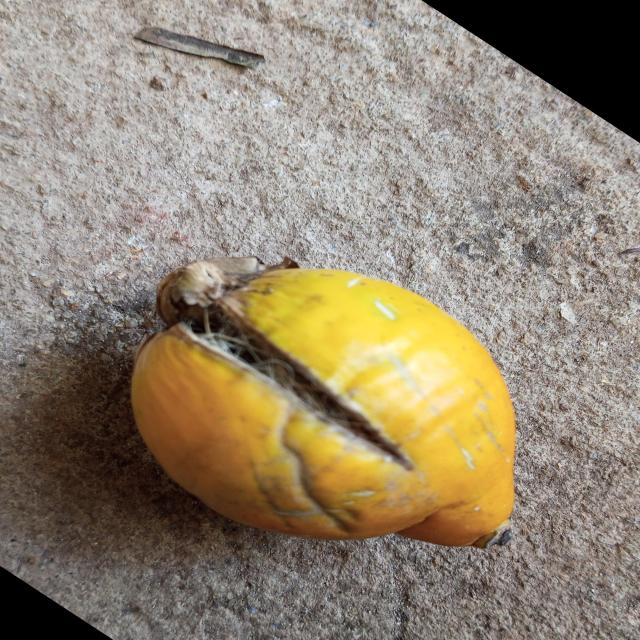damaged: (129, 258, 516, 551)
